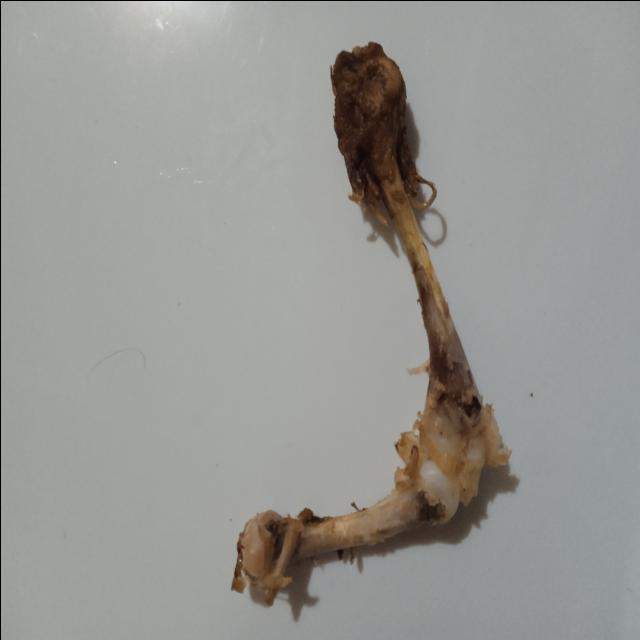bone: (227, 34, 517, 610)
